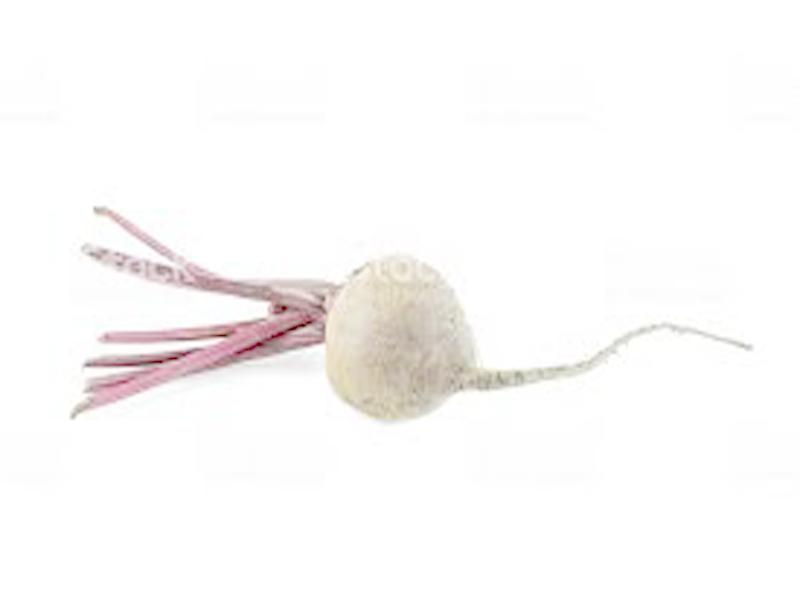Beet: (73, 210, 756, 420)
